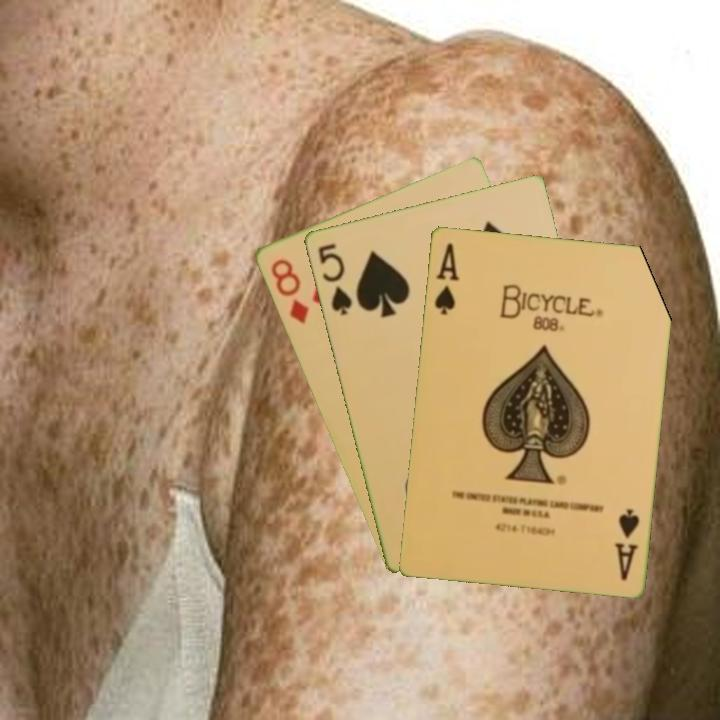5s: (313, 239, 355, 318)
8d: (266, 254, 312, 327)
As: (611, 504, 642, 583), (431, 239, 462, 317)
